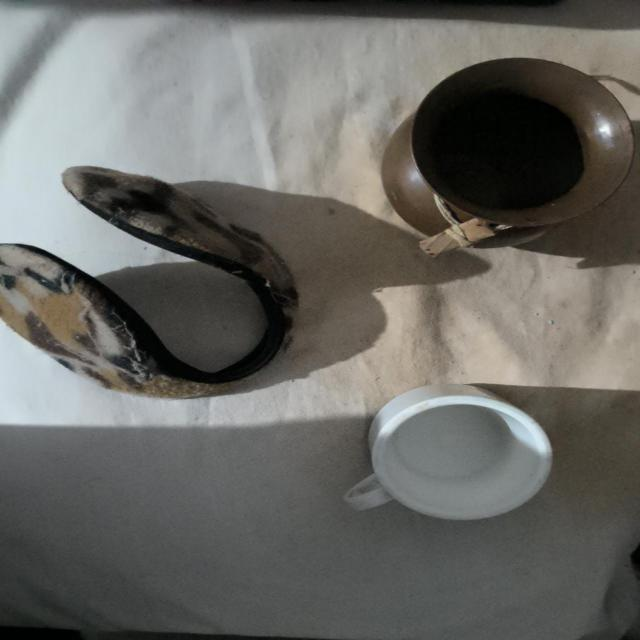dry: (401, 44, 634, 268)
